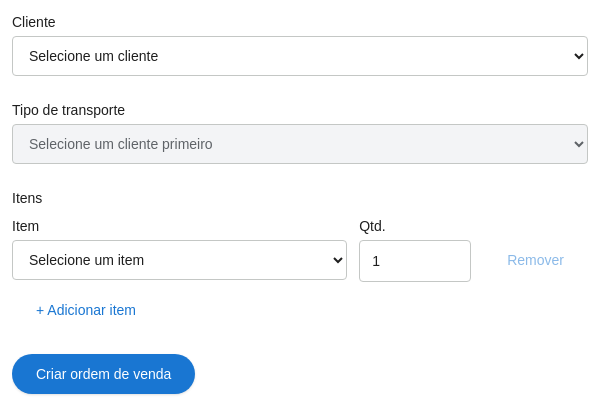
SalesOrderForm › só lista tipos de transporte autorizados para o cliente selecionado
This screenshot has width=607, height=412.
Step 1. Select "Distribuidora Central" in the dropdown labelled "Cliente" → (300, 56), box [12,36,588,76]
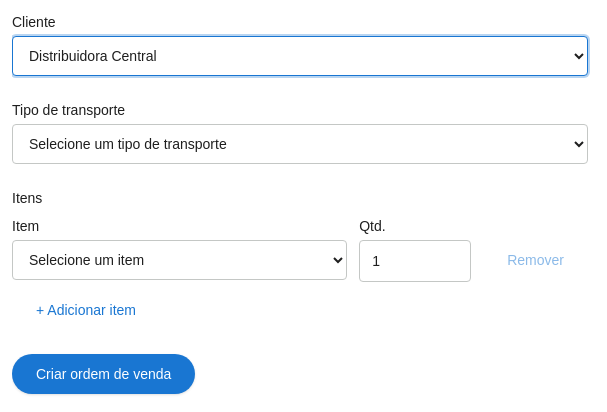
Result: the dropdown labelled "Tipo de transporte" is enabled at [12,124,588,164]
